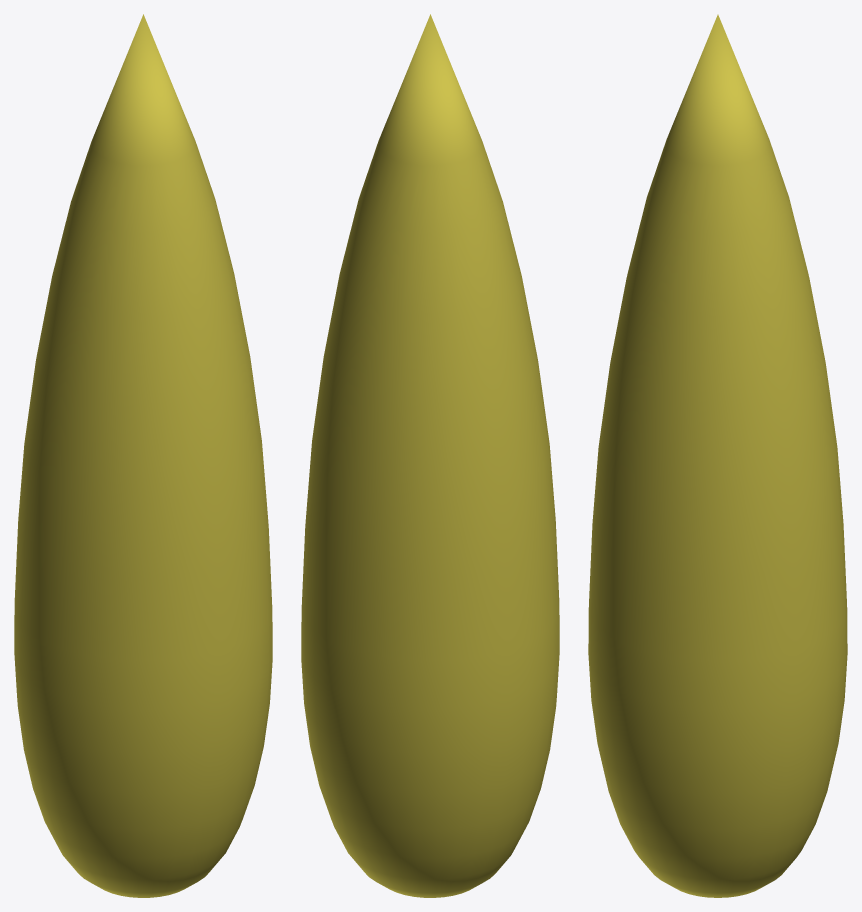
File: Bullet.fbx
3 views of the same model, side by side, from view 1: azimuth 30°, elevation 25°; view 2: azimuth 150°, elevation 25°; view 3: azimuth 270°, elevation 25° (orthographic).
Visible parts, largest first — view 1: Cylinder; view 2: Cylinder; view 3: Cylinder.
Boxes of the visible parts, x1=… form: Cylinder: x1=14, y1=14, x2=272, y2=897; Cylinder: x1=301, y1=14, x2=559, y2=897; Cylinder: x1=588, y1=14, x2=847, y2=897.
Size of the model in its own units: 32.22 by 119 by 32.22.
